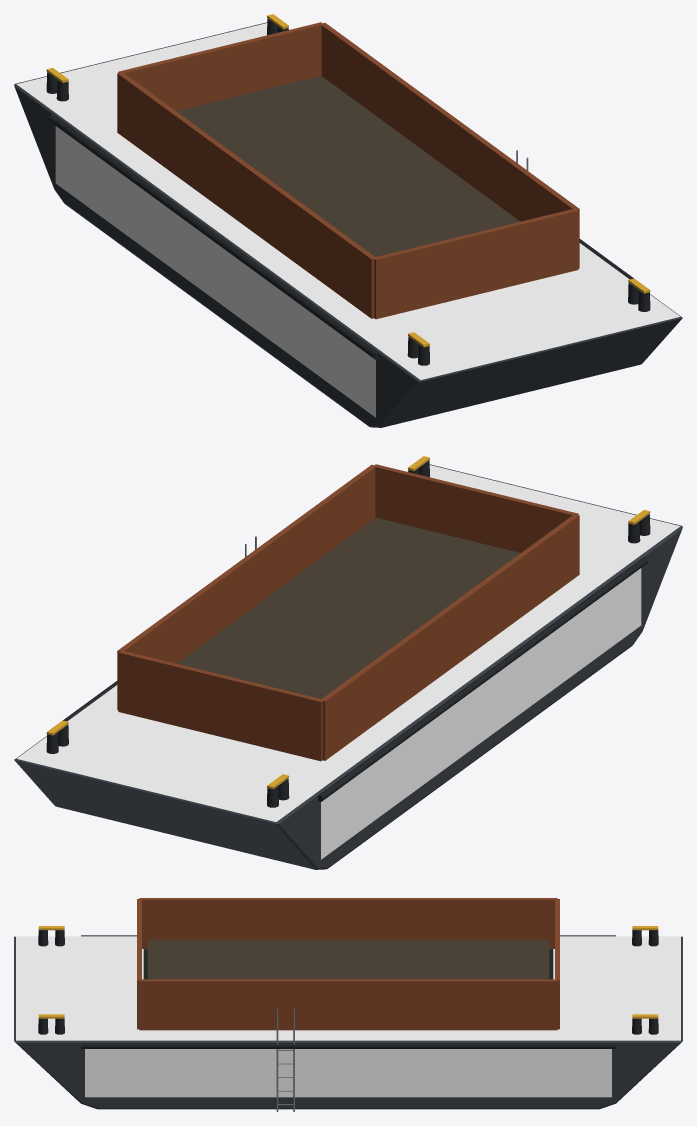
Rendered from fleet--deckBarge_hopper.glb.
3 renders of one model, top to bottom at view 1: azimuth 30°, elevation 25°; view 2: azimuth 150°, elevation 25°; view 3: azimuth 270°, elevation 25°, orthographic. The views are drawn at different scales.
Parts seen in each view (by area): view 1: deckBarge:shell, coaming, load; view 2: deckBarge:shell, coaming, load; view 3: deckBarge:shell, coaming, load, ladder, bitt1, bitt3, bitt2, bitt4.
Boxes of the visible parts, bbox=[...] form: deckBarge:shell: bbox=[14, 22, 682, 427]; coaming: bbox=[117, 22, 579, 319]; load: bbox=[176, 75, 520, 256]; deckBarge:shell: bbox=[14, 464, 682, 869]; coaming: bbox=[117, 464, 579, 761]; load: bbox=[176, 517, 520, 698]; deckBarge:shell: bbox=[14, 935, 682, 1109]; coaming: bbox=[137, 898, 559, 1030]; load: bbox=[147, 940, 549, 979]; ladder: bbox=[276, 1009, 294, 1111]; bitt1: bbox=[38, 1014, 64, 1034]; bitt3: bbox=[632, 1014, 658, 1034]; bitt2: bbox=[38, 926, 64, 946]; bitt4: bbox=[632, 926, 658, 946].
Size of the model in its own units: 6.24 by 3.1 by 16.
